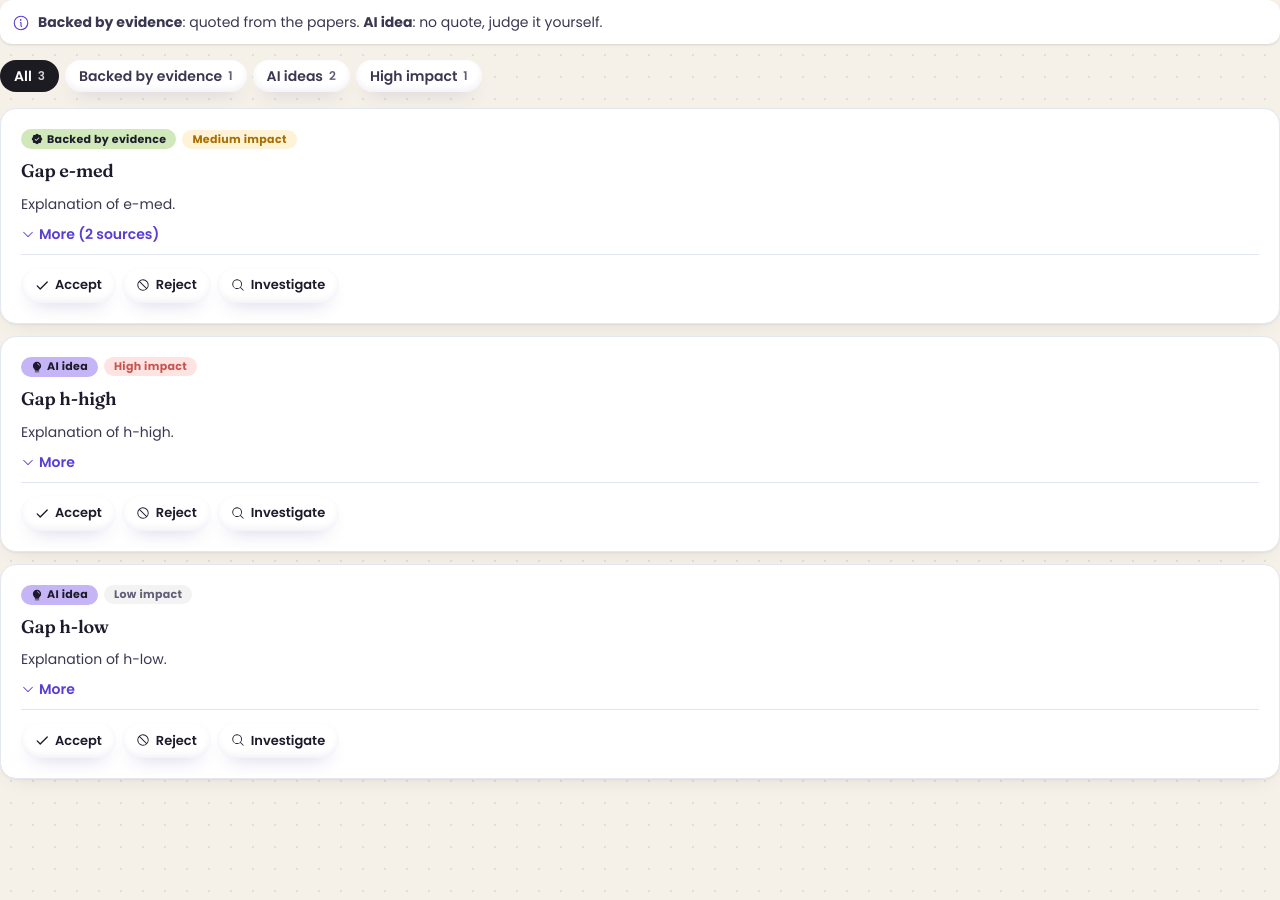
Test: GapsView › keeps details and quotes one click away
Click the button "More (2 sources)" at {"x": 90, "y": 234}, box left=21, top=224, right=159, bottom=244
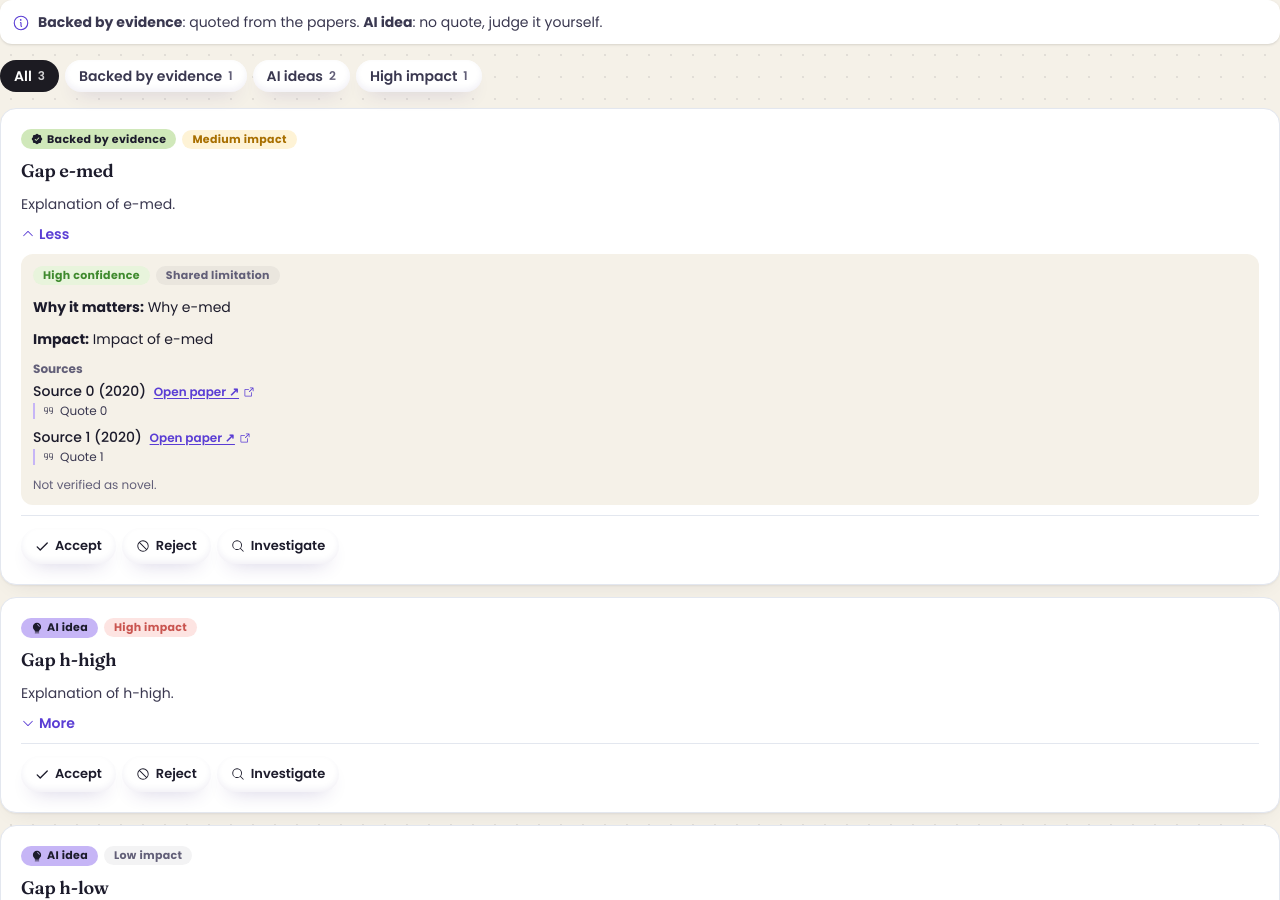
Expected: the text "Quote 0" is shown, left=33, top=403, right=1247, bottom=419
Expected: the text "Why it matters: Why e-med" is shown, left=33, top=297, right=231, bottom=317
Expected: the text "Not verified as novel." is shown, left=33, top=476, right=156, bottom=493
